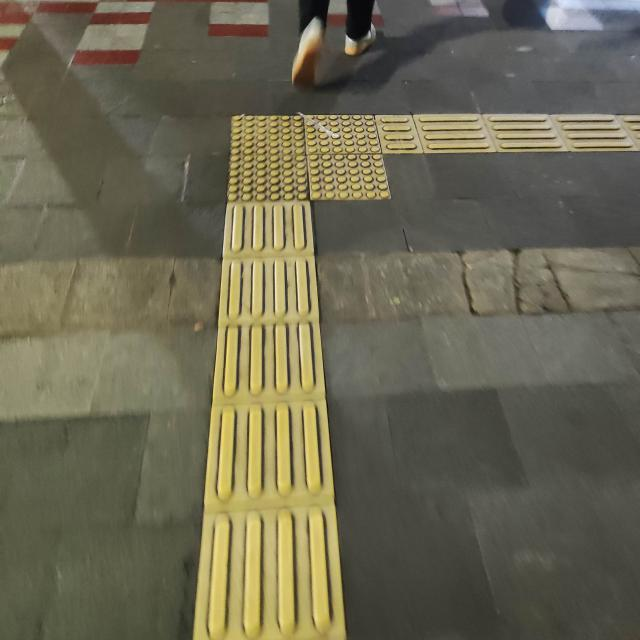kanan: (188, 91, 509, 217)
